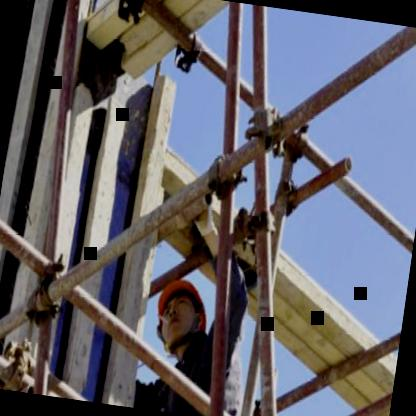helmet: (144, 257, 225, 359)
